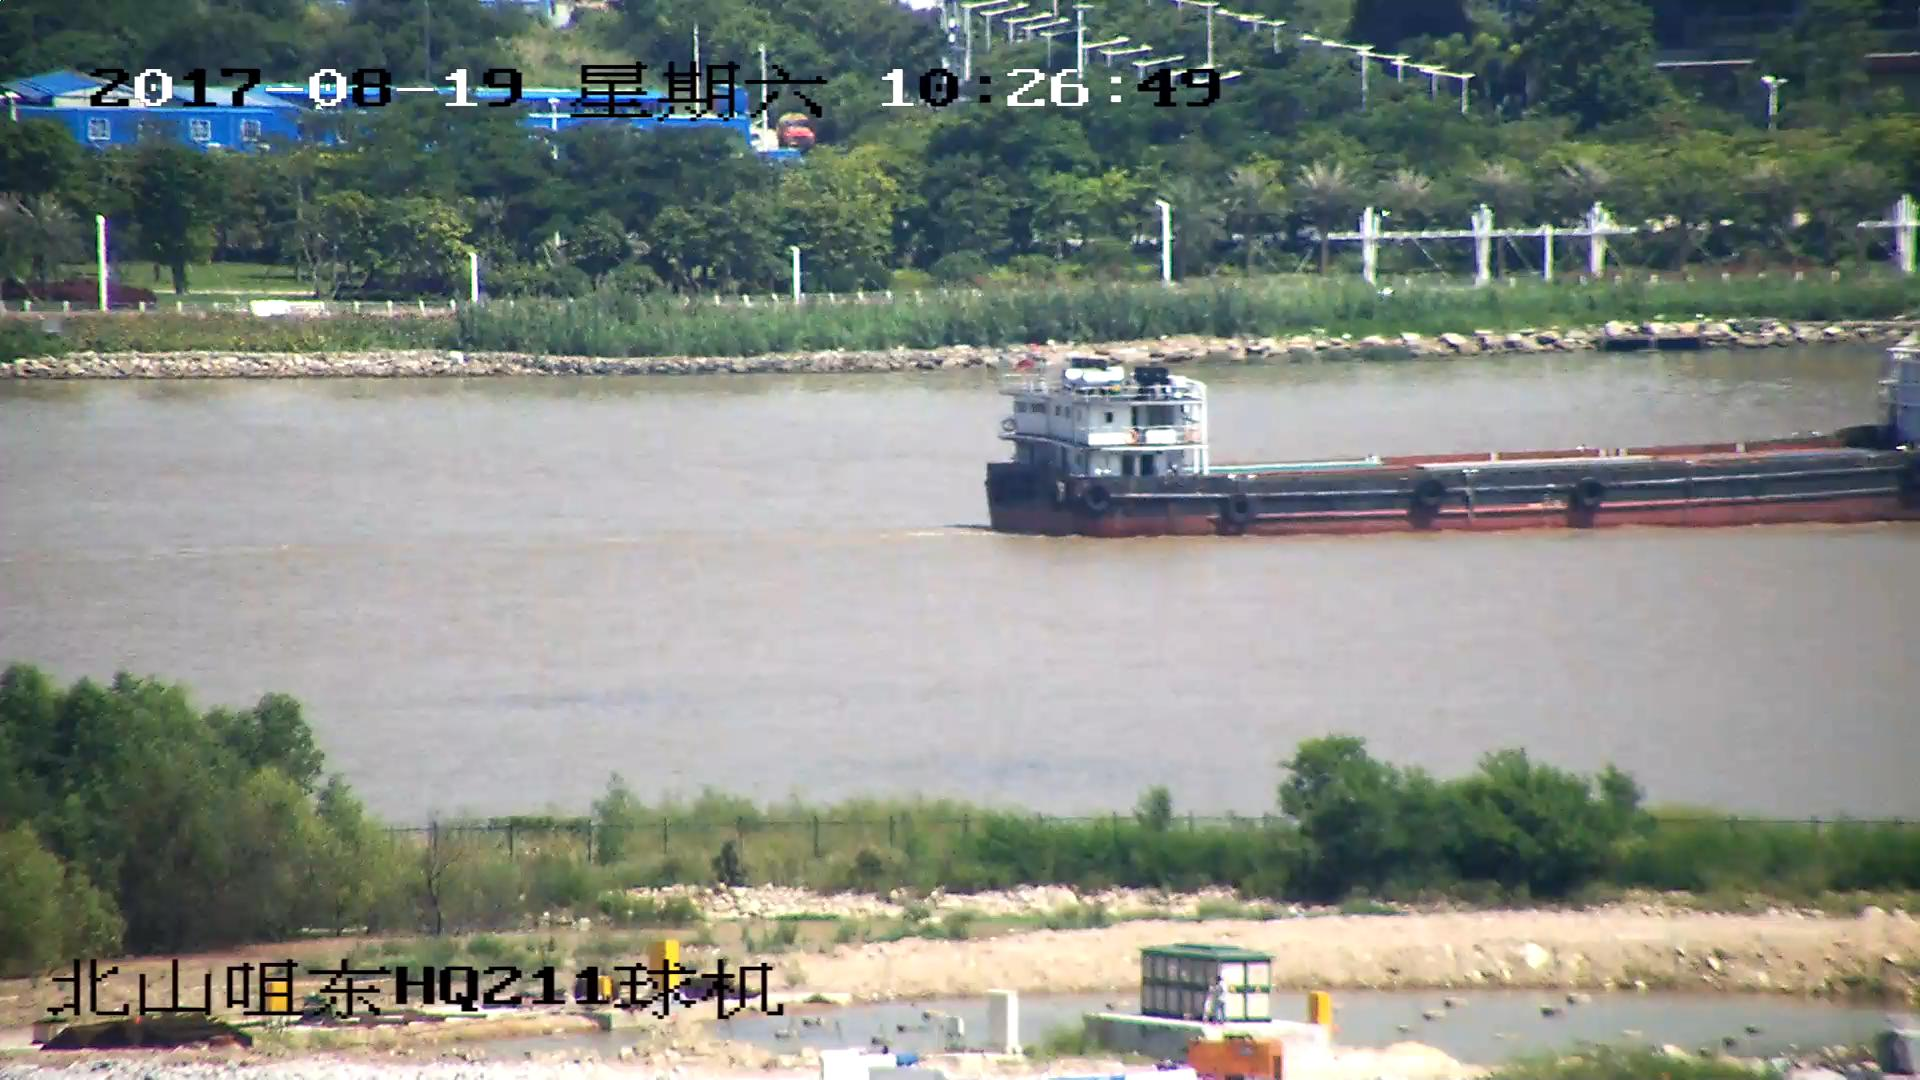general cargo ship: (979, 350, 1920, 538)
